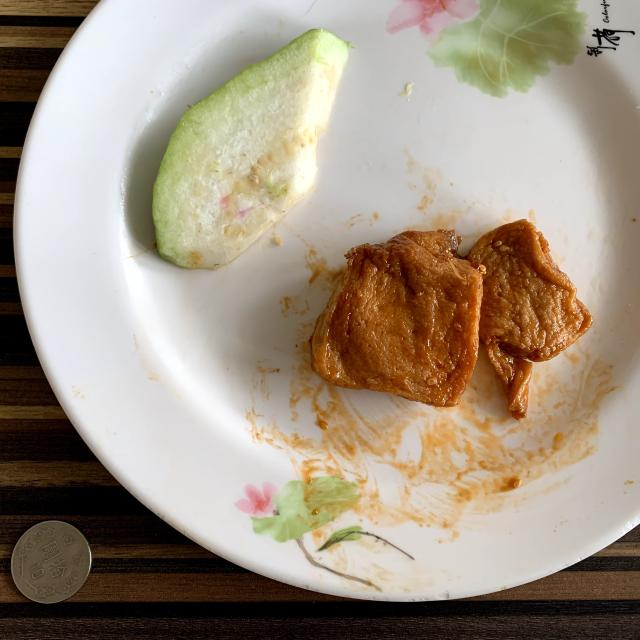coin: (11, 521, 91, 604)
creamy tofu: (310, 220, 592, 419)
guava -sliced-: (152, 29, 349, 269)
